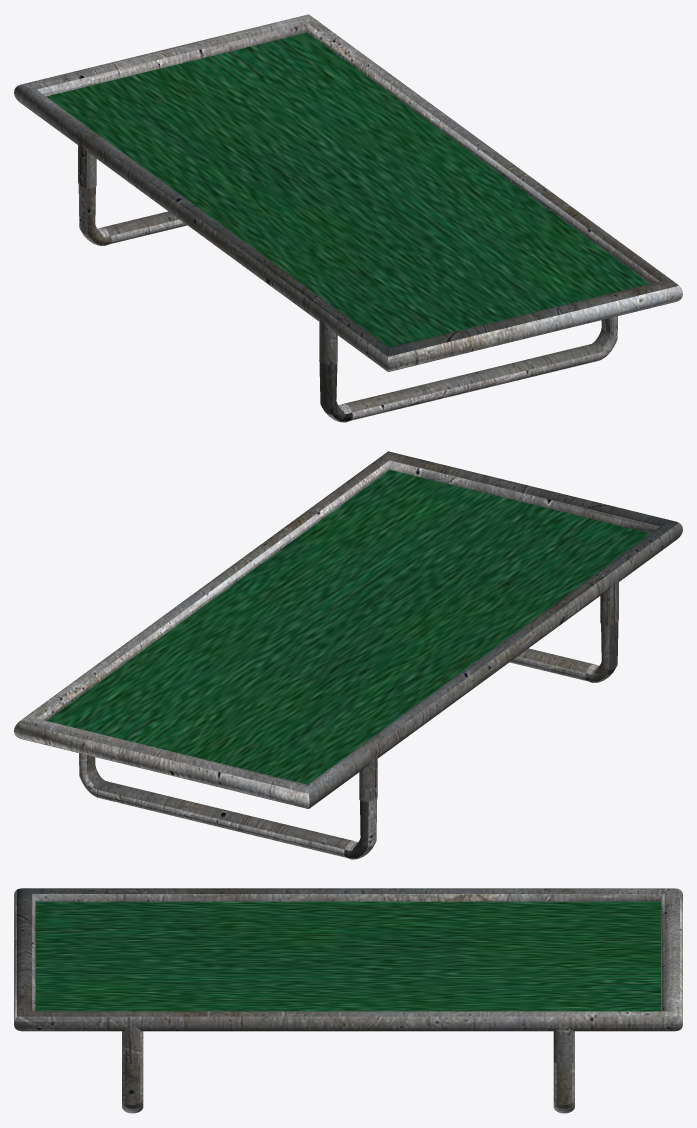
Rendered from field-cot.FBX.
3 renders of one model, top to bottom at view 1: azimuth 30°, elevation 25°; view 2: azimuth 150°, elevation 25°; view 3: azimuth 270°, elevation 25°, orthographic. The views are drawn at different scales.
Visible parts, largest first — view 1: Plane001; view 2: Plane001; view 3: Plane001.
Boxes of the visible parts, x1,y1,x2,y2 form: Plane001: [14, 14, 682, 422]; Plane001: [14, 451, 682, 859]; Plane001: [14, 888, 682, 1113].
Bounding box in the file's own units: 58.26 × 22.56 × 128.
1 material, 1 textured.
